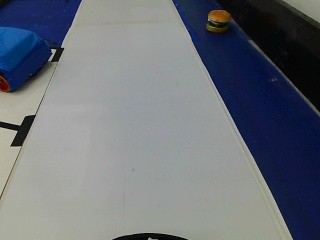burger: (198, 6, 237, 37)
